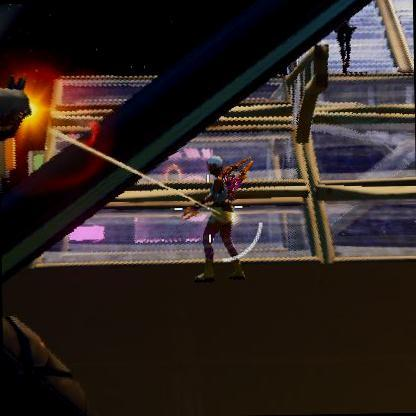person: (204, 154, 240, 268)
